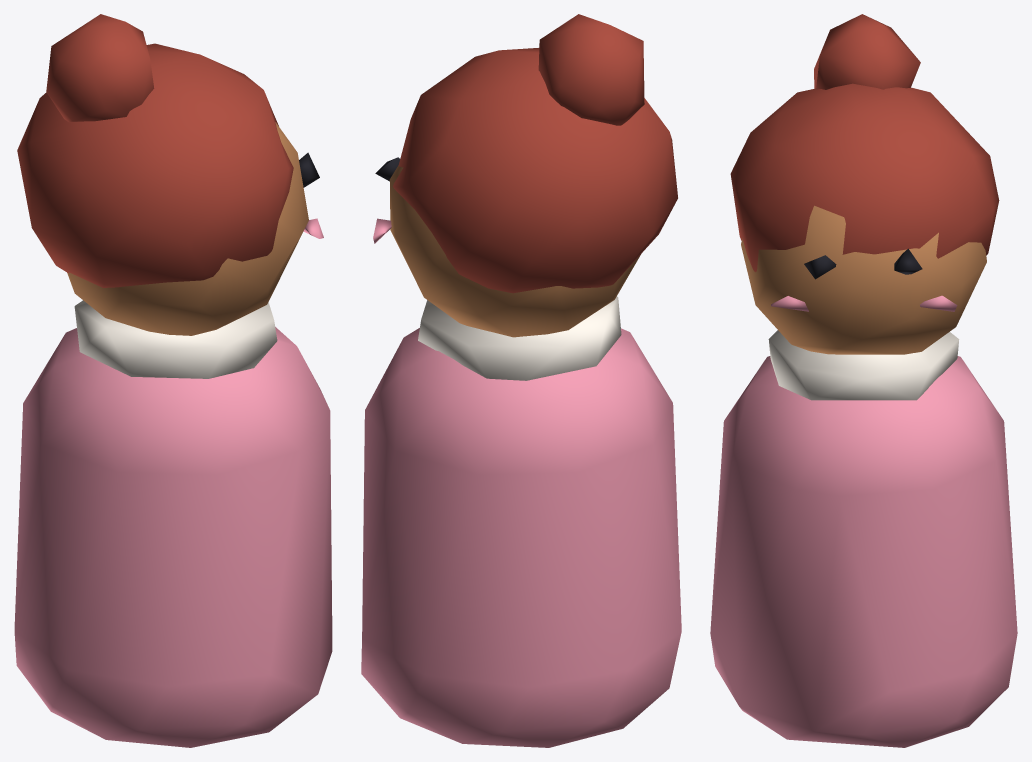
The model's file is peg_b.glb.
The picture shows the model from 3 angles, left to right: view 1: azimuth 30°, elevation 25°; view 2: azimuth 150°, elevation 25°; view 3: azimuth 270°, elevation 25°; orthographic projection. The views are drawn at different scales.
Parts seen in each view (by area): view 1: peg_b; view 2: peg_b; view 3: peg_b.
Boxes of the visible parts, x1,y1,x2,y2 form: peg_b: (14, 14, 332, 747); peg_b: (361, 14, 681, 747); peg_b: (710, 14, 1017, 747).
Bounding box in the file's own units: 0.313 × 0.7364 × 0.3189.
Materials: 1 (1 with a texture image).
